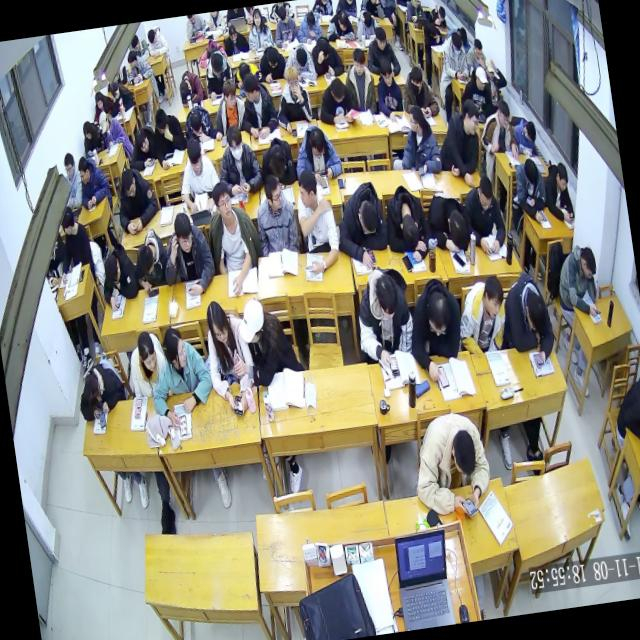bow: (495, 270, 558, 370), (379, 184, 432, 266), (73, 356, 128, 422), (423, 189, 471, 254), (97, 242, 141, 311), (128, 227, 170, 291), (256, 133, 298, 189), (124, 123, 160, 170), (179, 102, 216, 144), (130, 32, 150, 62), (422, 22, 444, 48), (431, 3, 448, 30)
down: (404, 274, 470, 384), (422, 290, 453, 340), (447, 428, 477, 475), (522, 288, 550, 335), (374, 274, 401, 322), (135, 327, 159, 374), (357, 200, 380, 238), (474, 174, 496, 213), (183, 137, 205, 174), (577, 244, 597, 280), (269, 142, 289, 178), (307, 121, 327, 155), (136, 242, 156, 276), (102, 254, 123, 286), (119, 168, 138, 200), (83, 374, 103, 404), (494, 96, 512, 129), (132, 125, 152, 153), (522, 158, 540, 188), (152, 105, 170, 134), (555, 162, 571, 192), (472, 61, 488, 91), (378, 58, 394, 87), (188, 109, 204, 137), (331, 74, 346, 103), (76, 158, 92, 185), (374, 24, 389, 52), (316, 36, 330, 62), (210, 50, 224, 76), (177, 76, 193, 98), (451, 31, 464, 57), (524, 121, 538, 143), (82, 120, 95, 142), (336, 11, 349, 32), (98, 111, 111, 132), (276, 4, 290, 23), (110, 78, 122, 100), (361, 8, 373, 29), (304, 10, 316, 30), (226, 22, 238, 42), (130, 32, 142, 52), (94, 90, 105, 110), (474, 40, 484, 59), (146, 25, 157, 42), (428, 22, 438, 40), (436, 5, 446, 22), (344, 0, 355, 6), (319, 0, 328, 4)
lookup: (204, 298, 232, 345), (482, 274, 507, 322), (210, 180, 235, 221), (171, 208, 194, 252), (224, 123, 246, 160), (350, 45, 368, 75), (409, 63, 426, 93), (284, 64, 300, 94), (484, 54, 499, 84), (62, 152, 76, 178), (252, 8, 263, 28), (409, 0, 421, 6)
sit: (406, 408, 497, 522), (349, 264, 419, 382), (201, 176, 267, 296), (144, 322, 218, 429), (199, 297, 259, 418), (223, 294, 302, 384), (331, 177, 392, 273), (290, 166, 342, 274), (157, 209, 218, 298), (452, 272, 514, 358), (433, 95, 488, 188), (250, 172, 302, 258), (460, 175, 510, 256), (173, 133, 224, 210), (552, 242, 602, 318), (214, 123, 266, 196), (111, 162, 161, 235), (394, 102, 442, 177), (125, 327, 172, 401), (292, 121, 344, 187), (232, 70, 280, 141), (505, 154, 551, 226), (54, 205, 96, 282), (268, 65, 315, 133), (340, 44, 380, 118), (206, 79, 251, 141), (476, 98, 519, 162), (147, 104, 190, 166), (398, 61, 441, 120), (608, 375, 640, 448), (372, 54, 406, 122), (542, 160, 576, 227), (198, 45, 238, 101), (362, 21, 401, 77), (74, 150, 112, 206), (314, 77, 354, 130), (436, 29, 471, 88), (458, 64, 494, 120), (308, 33, 347, 80), (243, 4, 276, 52), (59, 152, 85, 209), (483, 55, 510, 105), (270, 5, 300, 50), (96, 108, 130, 146), (323, 8, 357, 44), (294, 7, 326, 45), (220, 18, 250, 54), (124, 48, 154, 84), (512, 120, 540, 158), (353, 8, 382, 44), (80, 119, 106, 158), (108, 78, 136, 112), (464, 35, 488, 73), (90, 88, 116, 120), (144, 24, 170, 56), (200, 11, 228, 36), (183, 14, 209, 39), (358, 0, 387, 19), (183, 274, 206, 296), (404, 0, 424, 25), (333, 0, 360, 18), (310, 0, 335, 18), (376, 0, 398, 12), (394, 0, 418, 7)
